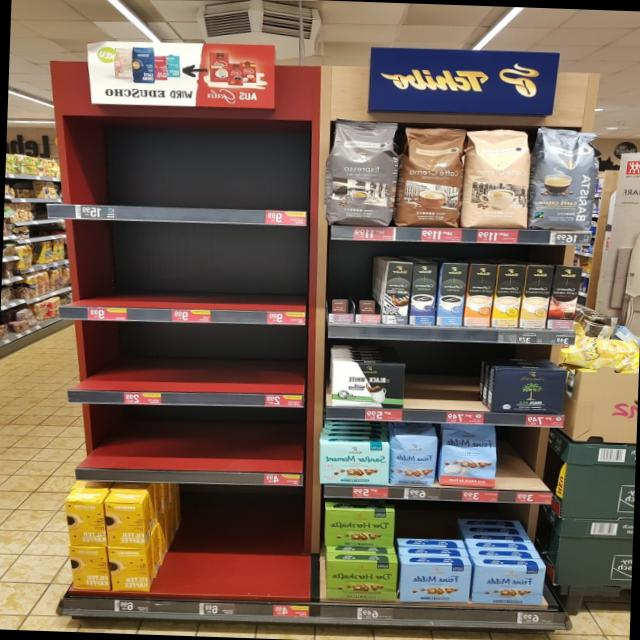BM Gemahlen: (490, 366, 568, 415)
BW Gemahlen: (328, 360, 407, 410)
Barista CC: (527, 125, 603, 232)
CC Mild: (460, 128, 532, 228)
CC Vollmundig 36 Pads: (395, 124, 465, 230)
Empty Shelf: (406, 342, 485, 408), (498, 426, 556, 492)
Espresso M Art: (320, 116, 400, 228)
FM 36 Pads: (438, 424, 498, 488)
FM Bohne: (387, 434, 439, 487)
FM Gemahlen: (397, 559, 473, 604), (472, 562, 548, 607)
Herzhatfe Mundig: (323, 558, 398, 602)
SM Gemahlen: (316, 436, 390, 486)
Simo CC Colombia: (547, 266, 583, 330)
Simo CCMild bigpack: (492, 263, 526, 329)
Simo CCVollmundig bigpack: (466, 264, 496, 328)
Simo Decaff: (520, 266, 554, 330)
Simo Es Elegant: (382, 260, 411, 324)
Simo Es Kraft: (410, 260, 438, 324)
Simo Es Vanilla: (436, 262, 466, 326)
